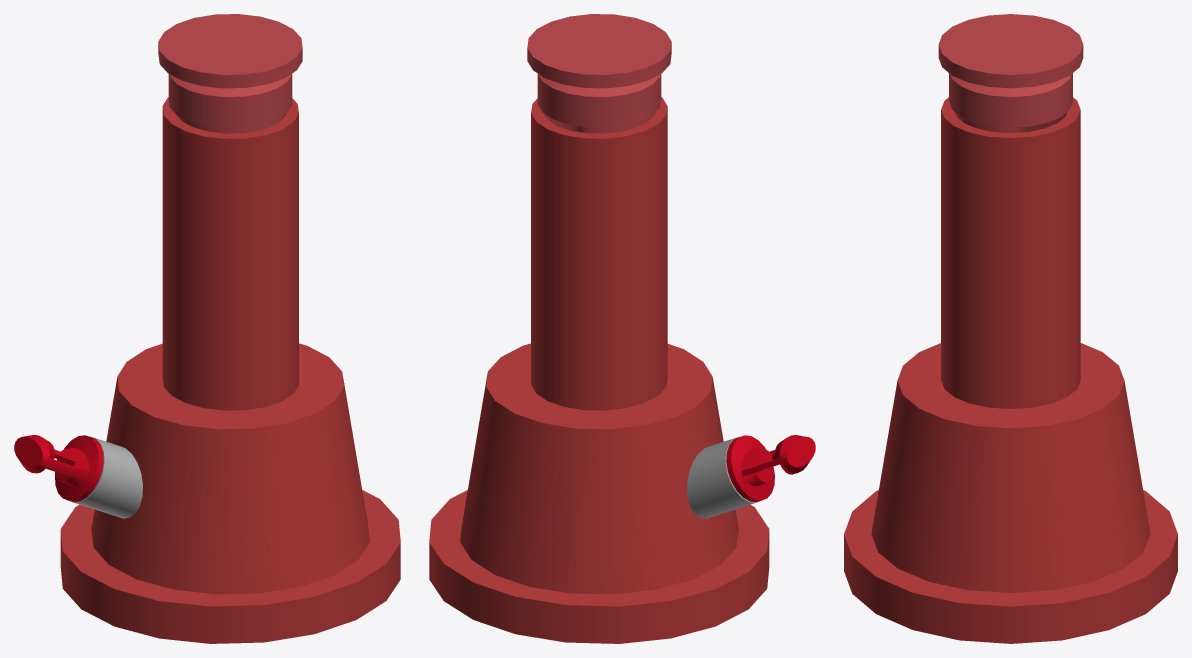
The model's file is spiralJack.fbx.
3 views of the same model, side by side, from view 1: azimuth 30°, elevation 25°; view 2: azimuth 150°, elevation 25°; view 3: azimuth 270°, elevation 25° (orthographic).
Visible parts, largest first — view 1: pPipe3, pCylinder2, pCylinder3; view 2: pPipe3, pCylinder2, pCylinder3; view 3: pPipe3, pCylinder2.
Boxes of the visible parts, bbox=[...] form: pPipe3: bbox=[60, 97, 400, 643]; pCylinder2: bbox=[158, 14, 302, 133]; pCylinder3: bbox=[14, 435, 103, 502]; pPipe3: bbox=[429, 97, 769, 643]; pCylinder2: bbox=[527, 14, 671, 133]; pCylinder3: bbox=[726, 435, 815, 502]; pPipe3: bbox=[844, 97, 1177, 643]; pCylinder2: bbox=[938, 14, 1083, 132].
Size of the model in its own units: 3.8 by 5.37 by 3.09.
